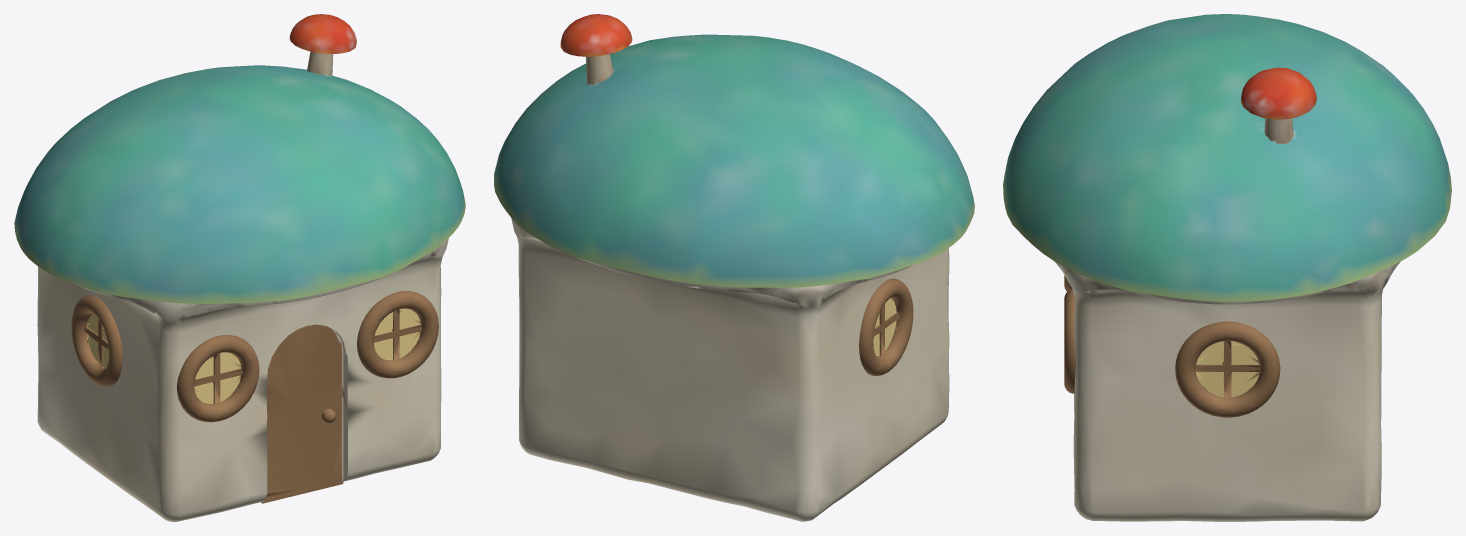
The model's file is monopoly-house.glb.
3 views of the same model, side by side, from view 1: azimuth 30°, elevation 25°; view 2: azimuth 150°, elevation 25°; view 3: azimuth 270°, elevation 25° (orthographic). The views are drawn at different scales.
Visible parts, largest first — view 1: monopoly_house, porthole_window.1, porthole_window.0, porthole_window.3; view 2: monopoly_house, porthole_window.3; view 3: monopoly_house, porthole_window.2, porthole_window.0.
Boxes of the visible parts, <box> form: monopoly_house: <box>14,14,465,521</box>; porthole_window.1: <box>176,335,259,422</box>; porthole_window.0: <box>357,291,438,378</box>; porthole_window.3: <box>71,295,122,386</box>; monopoly_house: <box>494,14,974,521</box>; porthole_window.3: <box>859,278,913,375</box>; monopoly_house: <box>1003,14,1451,521</box>; porthole_window.2: <box>1175,321,1280,417</box>; porthole_window.0: <box>1064,289,1075,393</box>.
Bounding box in the file's own units: 3.61 × 3.31 × 3.08.
